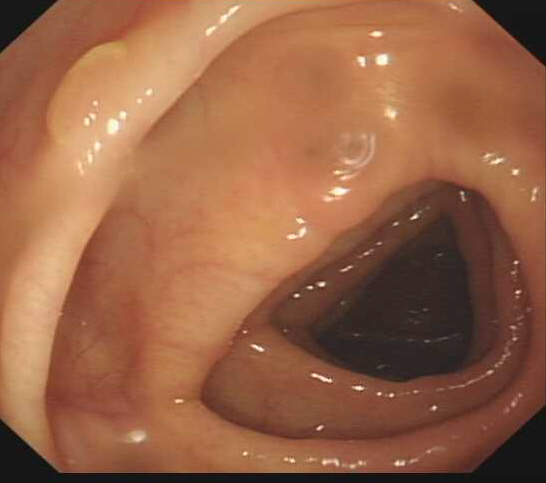others: (46, 40, 132, 144)
